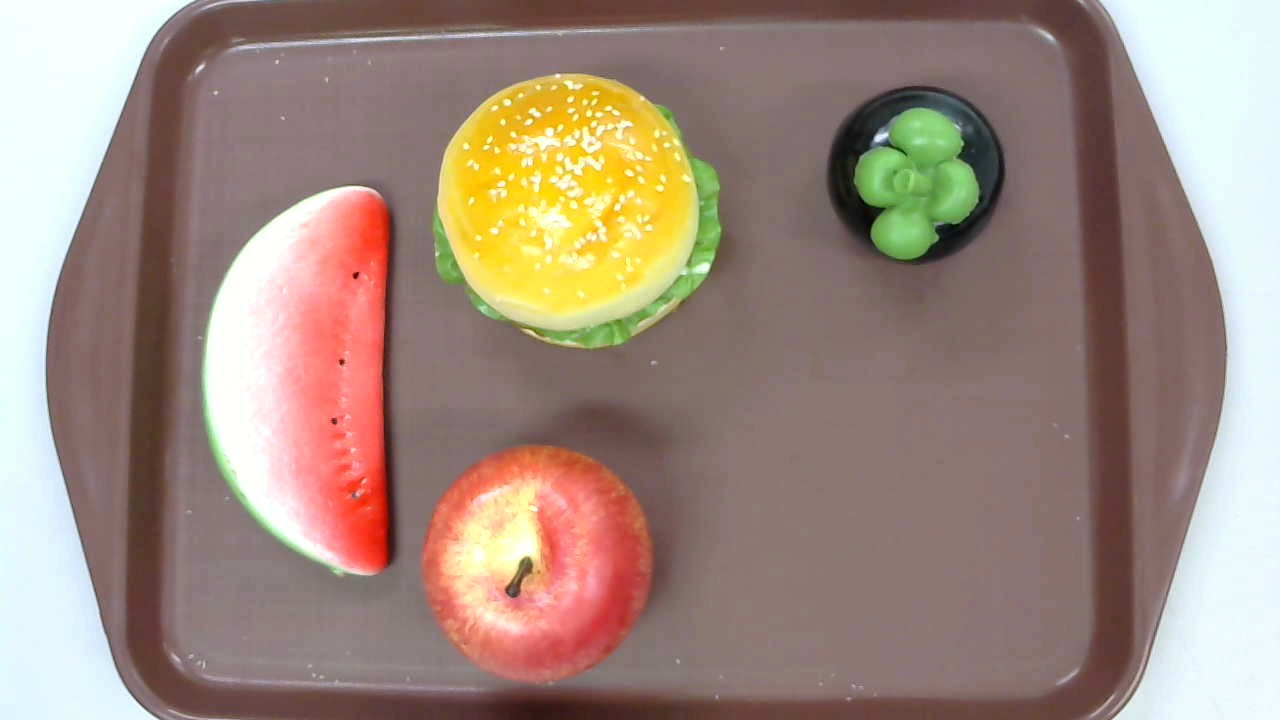hamburger: (432, 72, 724, 352)
mangosteen: (825, 84, 1006, 267)
red apple: (422, 442, 656, 685)
water melon: (200, 185, 390, 579)
